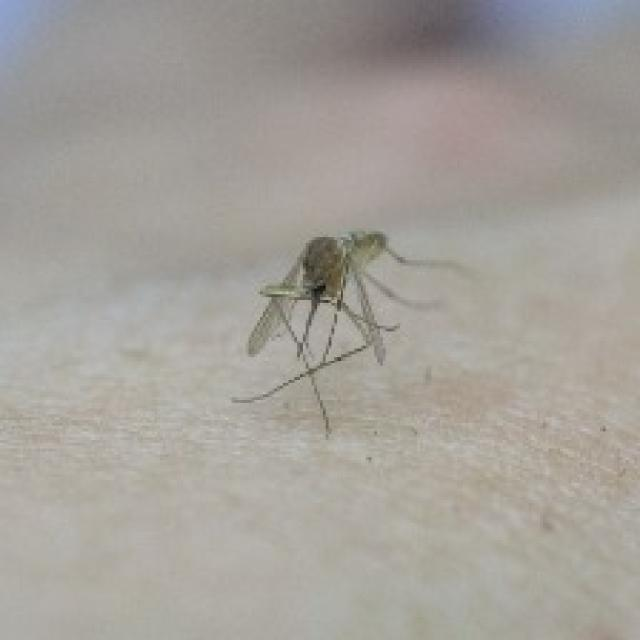culex: (228, 226, 468, 437)
